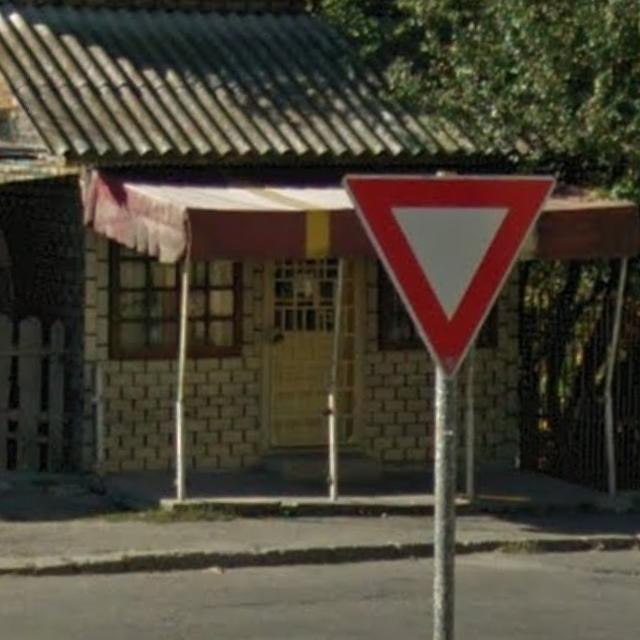prio_give_way: (340, 171, 558, 373)
